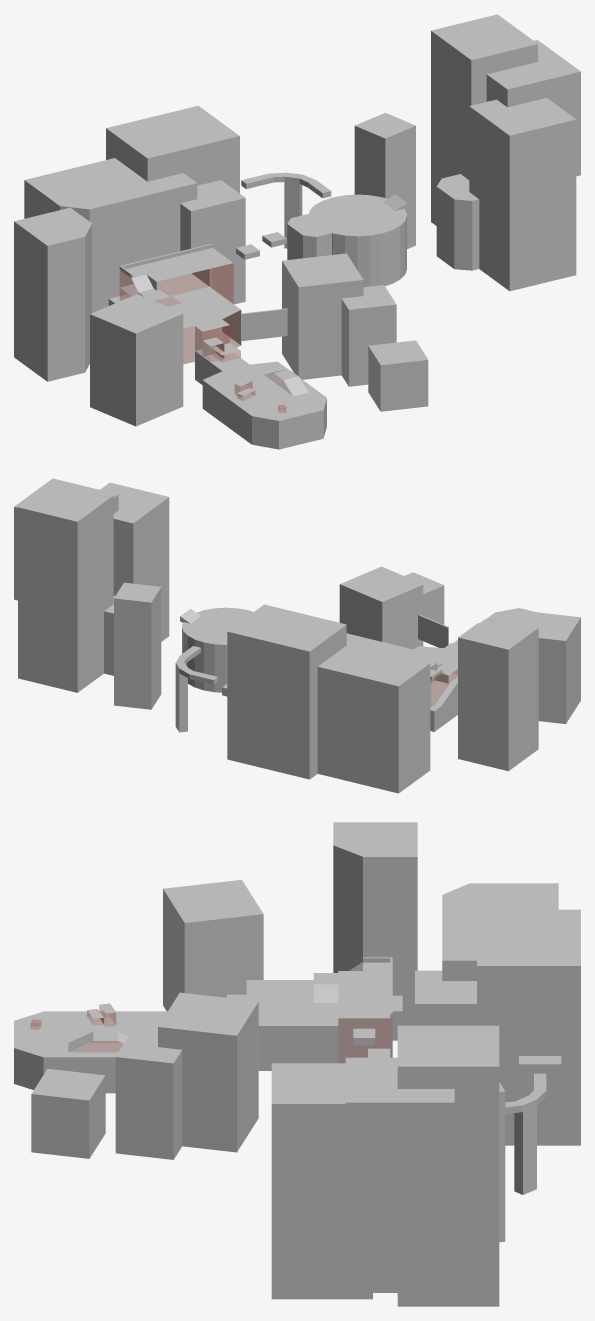
File: lebel1_pbr.glb
3 views of the same model, one above another, from view 1: azimuth 30°, elevation 25°; view 2: azimuth 150°, elevation 25°; view 3: azimuth 270°, elevation 25° (orthographic). The views are drawn at different scales.
Visible parts, largest first — view 1: level1_pbr; view 2: level1_pbr; view 3: level1_pbr.
Boxes of the visible parts, x1,y1,x2,y2 form: level1_pbr: [14, 14, 580, 449]; level1_pbr: [14, 478, 580, 793]; level1_pbr: [14, 822, 580, 1306].
Bounding box in the file's own units: 2520 × 864 × 1832.
Materials: 2 (1 with a texture image).
